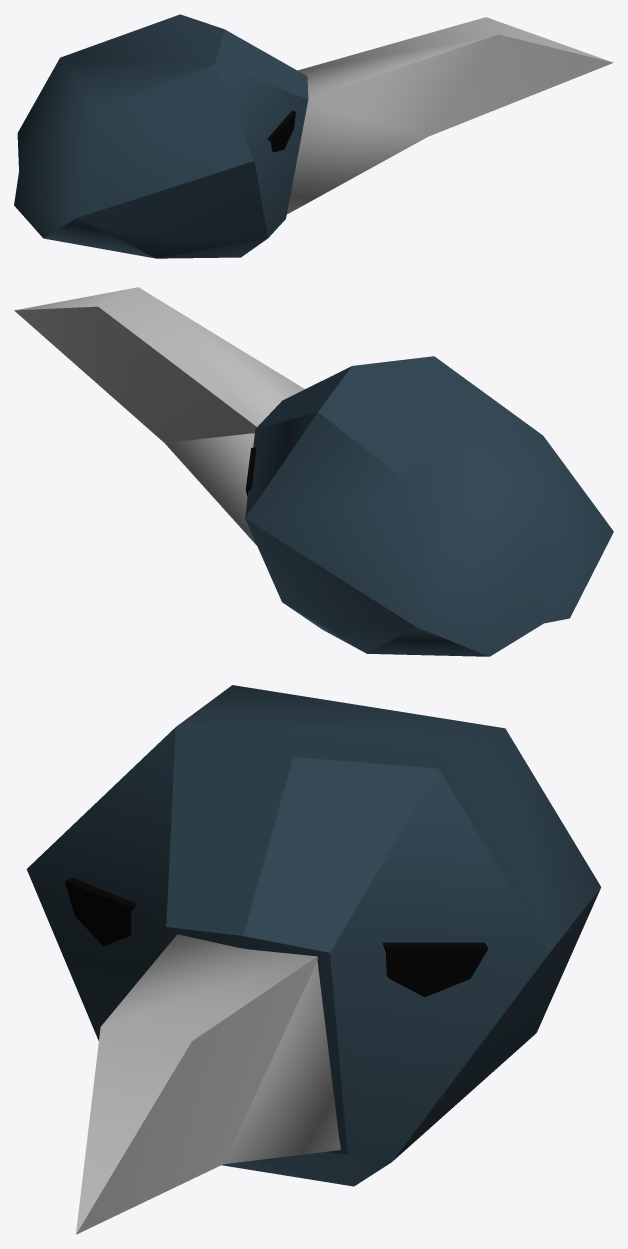
File: ravenHead.fbx
The picture shows the model from 3 angles, top to bottom: view 1: azimuth 30°, elevation 25°; view 2: azimuth 150°, elevation 25°; view 3: azimuth 270°, elevation 25°; orthographic projection. The views are drawn at different scales.
Visible parts, largest first — view 1: Raven_3; view 2: Raven_3; view 3: Raven_3.
Boxes of the visible parts, <box> form: Raven_3: <box>14,14,613,258</box>; Raven_3: <box>14,287,613,656</box>; Raven_3: <box>26,685,601,1234</box>.
Size of the model in its own units: 1102 by 426 by 528.
